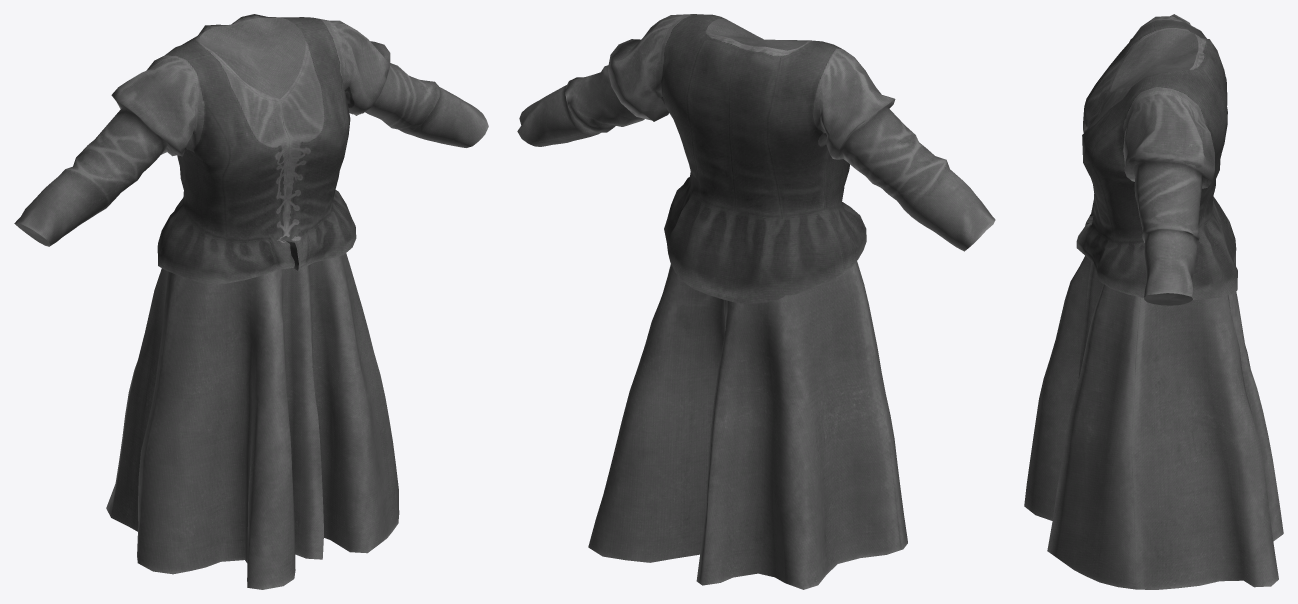
The model's file is sk_dwarf_dress_normal_e.fbx.
3 views of the same model, side by side, from view 1: azimuth 30°, elevation 25°; view 2: azimuth 150°, elevation 25°; view 3: azimuth 270°, elevation 25° (orthographic). The views are drawn at different scales.
Parts seen in each view (by area): view 1: sk_dwarf_dress_normal_e.1, sk_dwarf_dress_normal_e.0; view 2: sk_dwarf_dress_normal_e.1, sk_dwarf_dress_normal_e.0; view 3: sk_dwarf_dress_normal_e.1, sk_dwarf_dress_normal_e.0.
Part boxes in pixels (box(x1,y1,x2,y2)): sk_dwarf_dress_normal_e.1: box(106, 235, 399, 589); sk_dwarf_dress_normal_e.0: box(14, 14, 488, 283); sk_dwarf_dress_normal_e.1: box(588, 261, 907, 589); sk_dwarf_dress_normal_e.0: box(517, 14, 995, 303); sk_dwarf_dress_normal_e.1: box(1024, 256, 1283, 589); sk_dwarf_dress_normal_e.0: box(1076, 14, 1237, 305).
Size of the model in its own units: 1.19 by 0.5951 by 1.24.
Materials: 2 (2 with a texture image).
